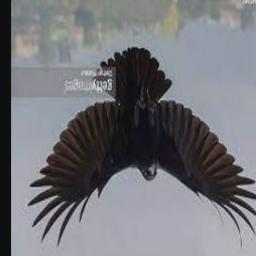Crow: (27, 48, 256, 250)
